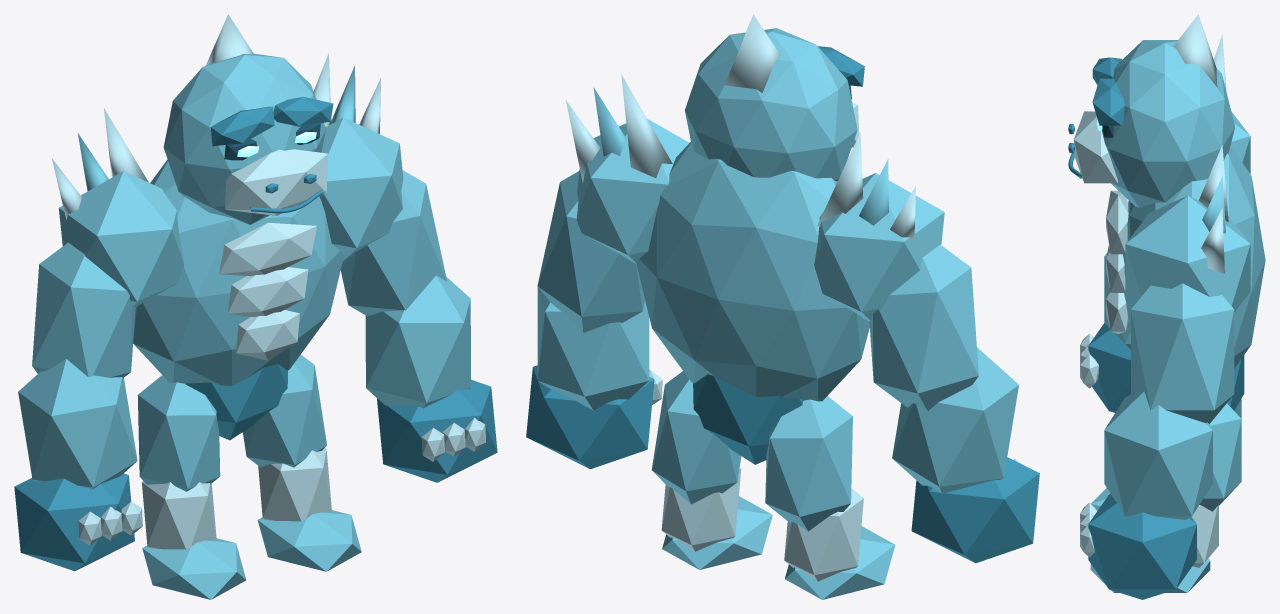
The model's file is crystal_striker.glb.
The picture shows the model from 3 angles, left to right: view 1: azimuth 30°, elevation 25°; view 2: azimuth 150°, elevation 25°; view 3: azimuth 270°, elevation 25°; orthographic projection. The views are drawn at different scales.
Visible parts, largest first — view 1: Surface.Glacier crystal, Surface.Ice edges, Surface.Deep cyan facets; view 2: Surface.Glacier crystal, Surface.Deep cyan facets, Surface.Ice edges; view 3: Surface.Glacier crystal, Surface.Deep cyan facets, Surface.Ice edges.
Part boxes in pixels (x1,y1,x2,y2): Surface.Glacier crystal: [18, 53, 470, 599]; Surface.Ice edges: [51, 14, 486, 549]; Surface.Deep cyan facets: [14, 96, 497, 571]; Surface.Glacier crystal: [537, 28, 1018, 599]; Surface.Deep cyan facets: [526, 46, 1039, 563]; Surface.Ice edges: [566, 14, 1021, 581]; Surface.Glacier crystal: [1090, 40, 1265, 592]; Surface.Deep cyan facets: [1068, 57, 1244, 599]; Surface.Ice edges: [1074, 14, 1228, 567].
Bounding box in the file's own units: 1.04 × 1.15 × 0.3755.
